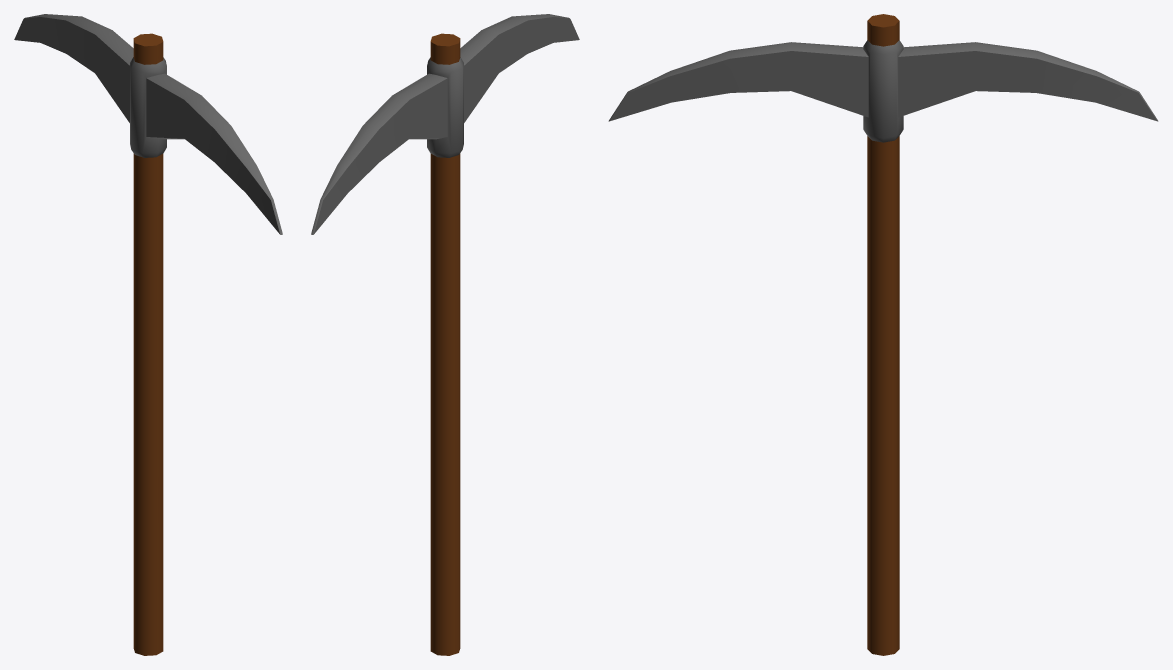
The model's file is Pickaxe.fbx.
3 renders of one model, left to right at view 1: azimuth 30°, elevation 25°; view 2: azimuth 150°, elevation 25°; view 3: azimuth 270°, elevation 25°, orthographic. The views are drawn at different scales.
Parts seen in each view (by area): view 1: Pickaxe; view 2: Pickaxe; view 3: Pickaxe.
Boxes of the visible parts, left/top/right/bottom form: Pickaxe: left=14, top=14, right=282, bottom=655; Pickaxe: left=311, top=14, right=579, bottom=655; Pickaxe: left=608, top=14, right=1158, bottom=655.
Bounding box in the file's own units: 0.0768 × 1.03 × 1.3.
